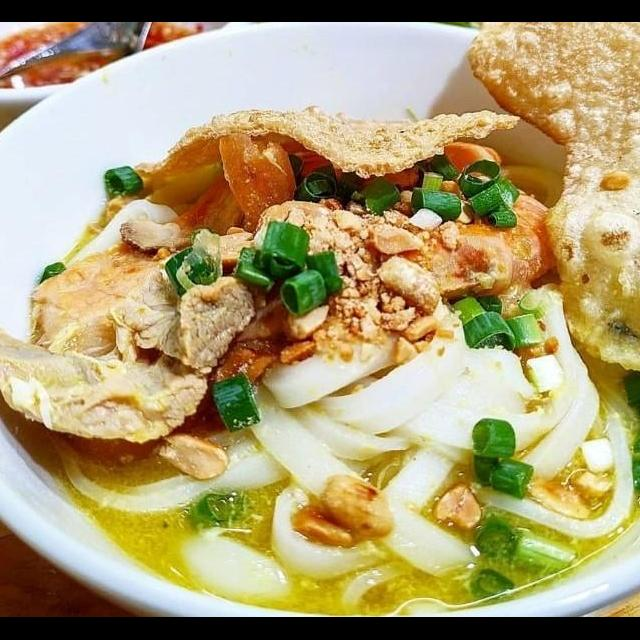banh da: (460, 23, 640, 441), (122, 102, 528, 200)
mi: (49, 279, 640, 603)
thit heo: (0, 231, 264, 448)
tom: (376, 176, 564, 302)
